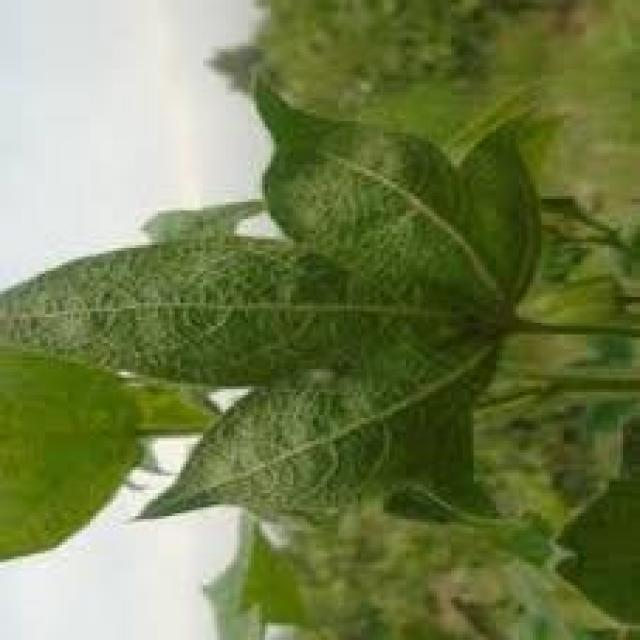Leaf Curl Virus: (146, 247, 450, 478)
